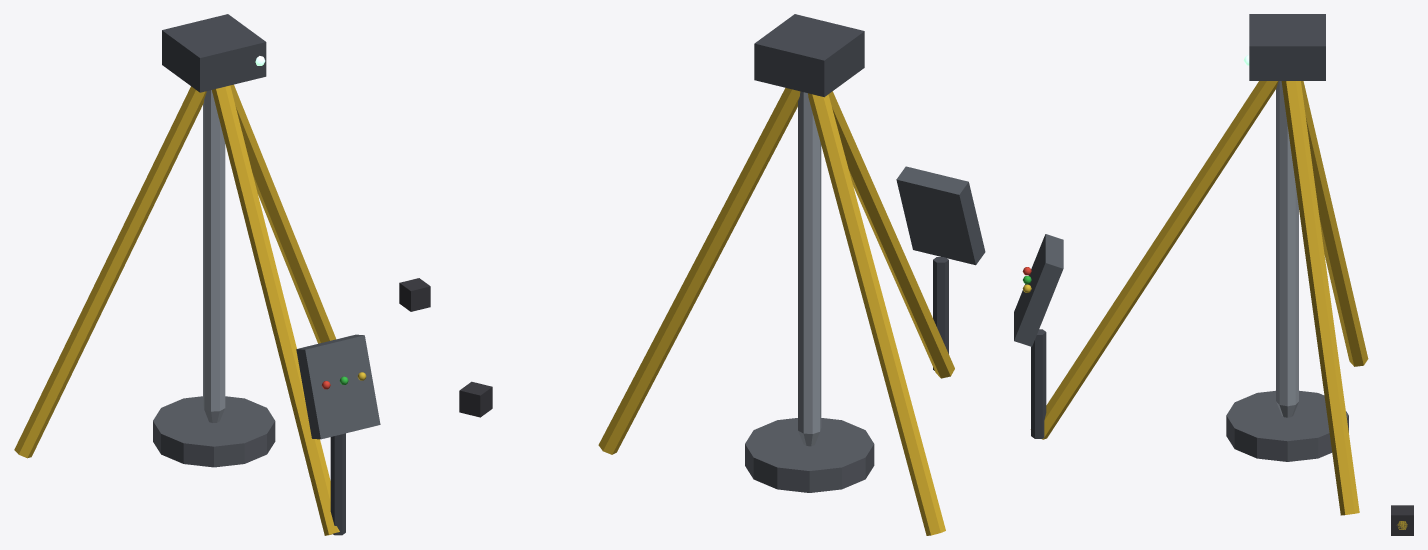
File: Prospector.fbx
3 renders of one model, left to right at view 1: azimuth 30°, elevation 25°; view 2: azimuth 150°, elevation 25°; view 3: azimuth 270°, elevation 25°, orthographic. The views are drawn at different scales.
Parts seen in each view (by area): view 1: Prospector_Body, Prospector_Probe; view 2: Prospector_Body, Prospector_Probe; view 3: Prospector_Body, Prospector_Probe.
Boxes of the visible parts, x1,y1,x2,y2 form: Prospector_Body: (14,14,430,535); Prospector_Probe: (203,90,225,422); Prospector_Body: (459,14,985,535); Prospector_Probe: (798,91,821,446); Prospector_Body: (1014,14,1413,535); Prospector_Probe: (1276,81,1298,417).
Size of the model in its own units: 1.3 by 1.18 by 1.04.
